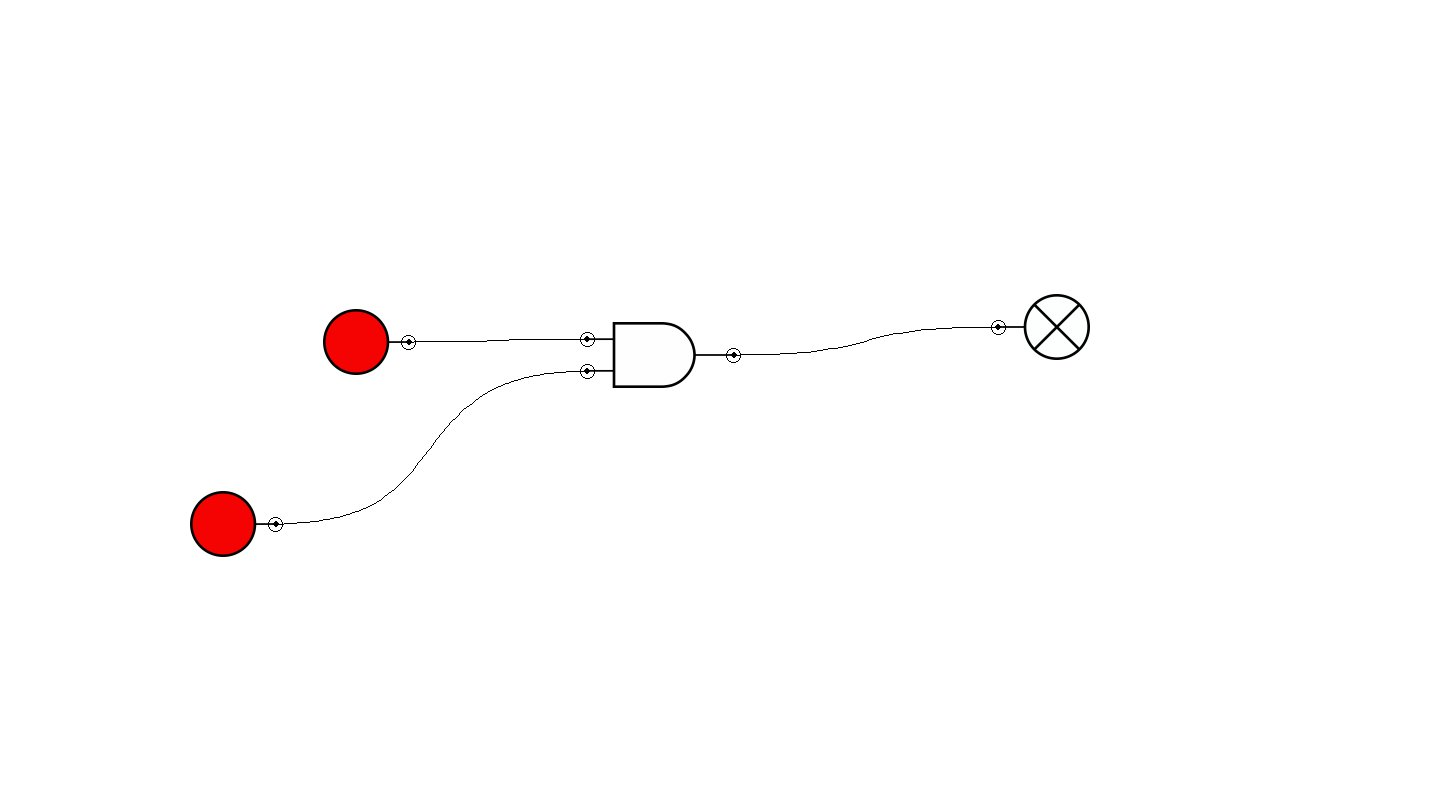and: (580, 322, 741, 388)
bulb: (991, 294, 1090, 360)
switch_False: (190, 491, 283, 557), (323, 309, 416, 375)
